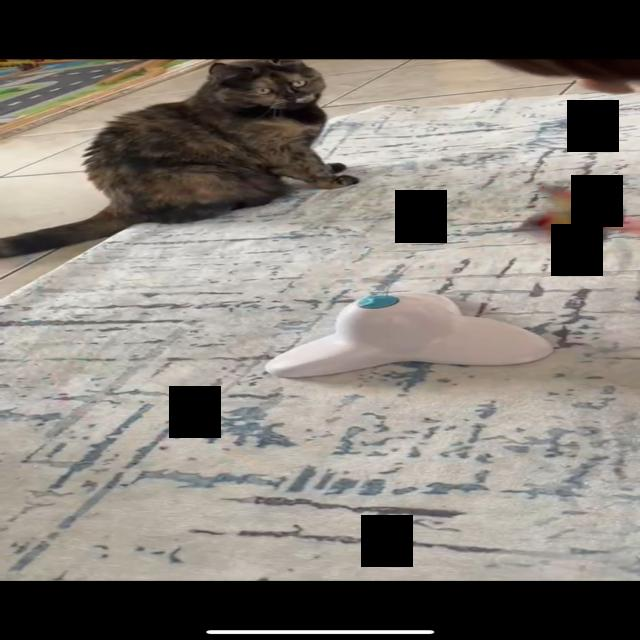authorized: (1, 58, 360, 258)
